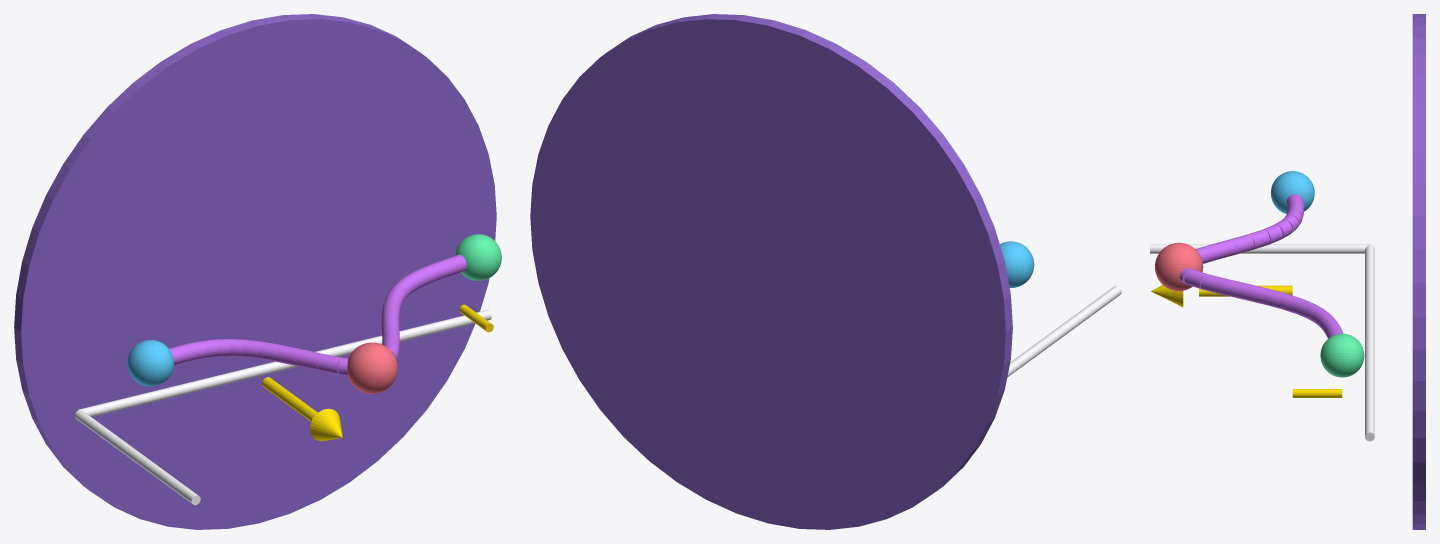
Rendered from modelo.glb.
3 views of the same model, side by side, from view 1: azimuth 30°, elevation 25°; view 2: azimuth 150°, elevation 25°; view 3: azimuth 270°, elevation 25° (orthographic). The views are drawn at different scales.
Visible parts, largest first — view 1: base, eixo_progresso, estado_transicao, reagentes, eixo_energia, produtos, ponta_Ea, Ea; view 2: base, eixo_energia, reagentes; view 3: base, eixo_progresso, estado_transicao, produtos, eixo_energia, reagentes, delta_H, curva_19, ponta_Ea, curva_20, curva_18, Ea (+1 smaller).
Boxes of the visible parts, x1,y1,x2,y2 form: base: [14, 14, 496, 529]; eixo_progresso: [77, 309, 491, 416]; estado_transicao: [347, 342, 397, 393]; reagentes: [127, 340, 173, 386]; eixo_energia: [74, 410, 200, 505]; produtos: [455, 234, 501, 280]; ponta_Ea: [310, 408, 342, 441]; Ea: [262, 377, 317, 421]; base: [530, 14, 1012, 529]; eixo_energia: [1007, 286, 1121, 377]; reagentes: [1000, 241, 1034, 287]; base: [1412, 14, 1425, 529]; eixo_progresso: [1365, 244, 1374, 441]; estado_transicao: [1155, 242, 1203, 290]; produtos: [1320, 333, 1364, 377]; eixo_energia: [1150, 244, 1369, 253]; reagentes: [1271, 171, 1314, 213]; delta_H: [1292, 389, 1342, 397]; curva_19: [1220, 278, 1246, 299]; ponta_Ea: [1151, 285, 1183, 307]; curva_20: [1241, 283, 1267, 303]; curva_18: [1200, 273, 1225, 294]; Ea: [1199, 285, 1292, 296].
Size of the model in its own units: 0.47 by 0.47 by 0.251.
